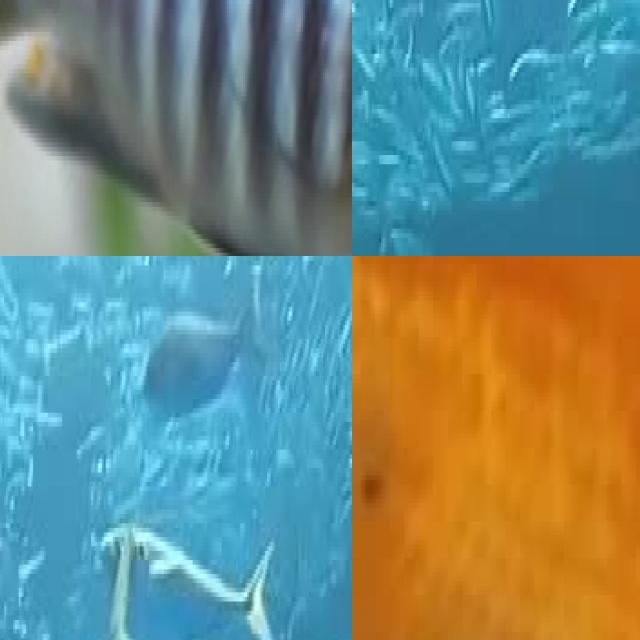fish: (352, 256, 640, 640), (0, 0, 352, 256)
